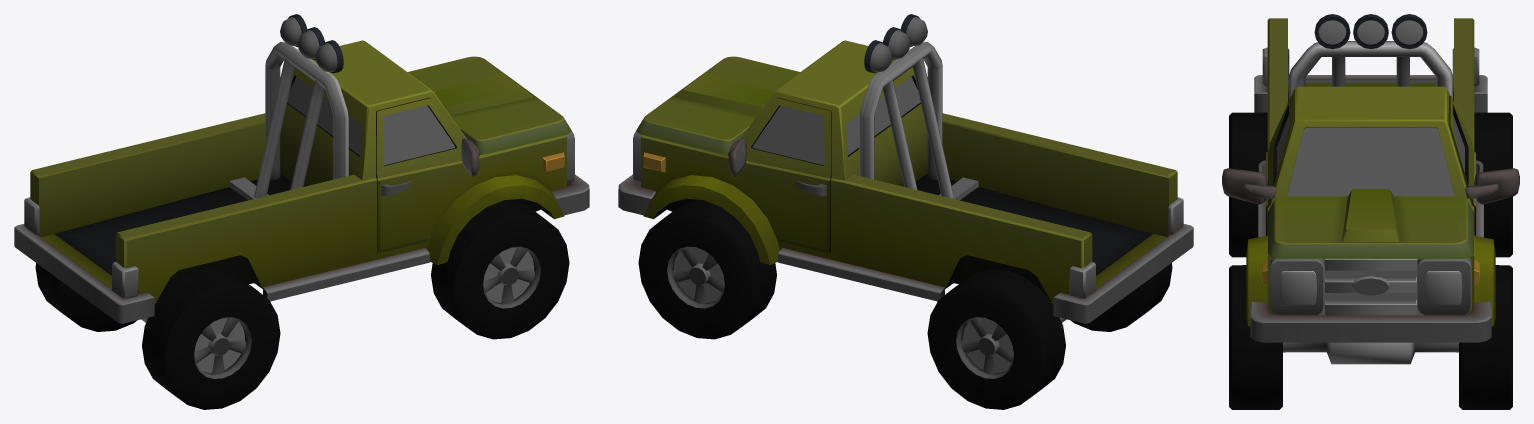
The model's file is Order_Board_Truck_BigWheel.fbx.
3 renders of one model, left to right at view 1: azimuth 30°, elevation 25°; view 2: azimuth 150°, elevation 25°; view 3: azimuth 270°, elevation 25°, orthographic. The views are drawn at different scales.
Parts seen in each view (by area): view 1: Order_Board_Truck_BigWheel; view 2: Order_Board_Truck_BigWheel; view 3: Order_Board_Truck_BigWheel.
Part boxes in pixels (x1,y1,x2,y2): Order_Board_Truck_BigWheel: (14,14,589,409); Order_Board_Truck_BigWheel: (618,14,1193,409); Order_Board_Truck_BigWheel: (1222,14,1519,409).
Size of the model in its own units: 6.66 by 3.96 by 3.36.
